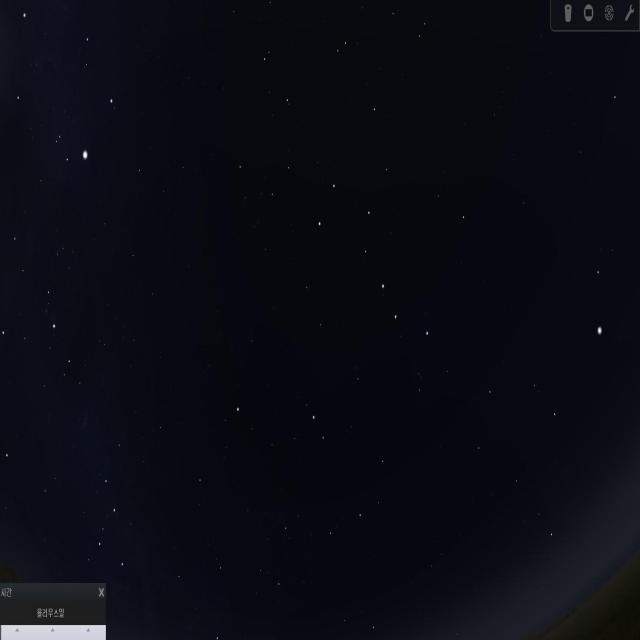cassiopeia: (90, 423, 140, 593)
ursa_major: (311, 171, 434, 346)
